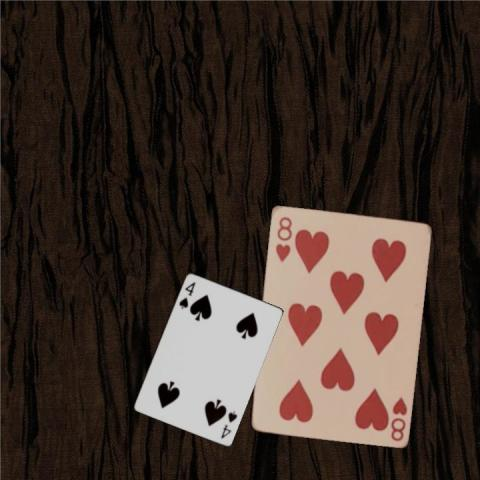4s: (217, 408, 239, 440), (176, 279, 197, 310)
8h: (387, 393, 409, 443), (272, 214, 293, 264)
